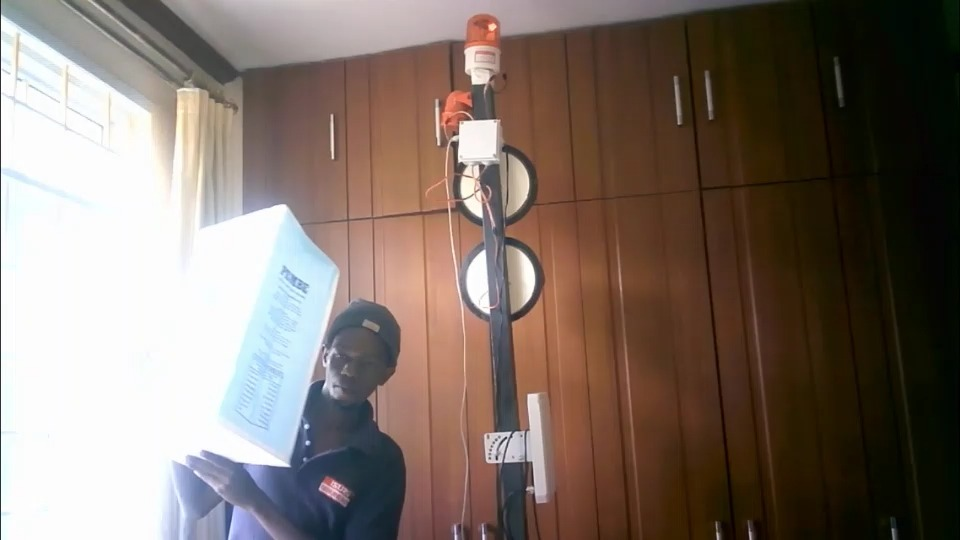wheat_flour_blue_label: (158, 203, 335, 465)
